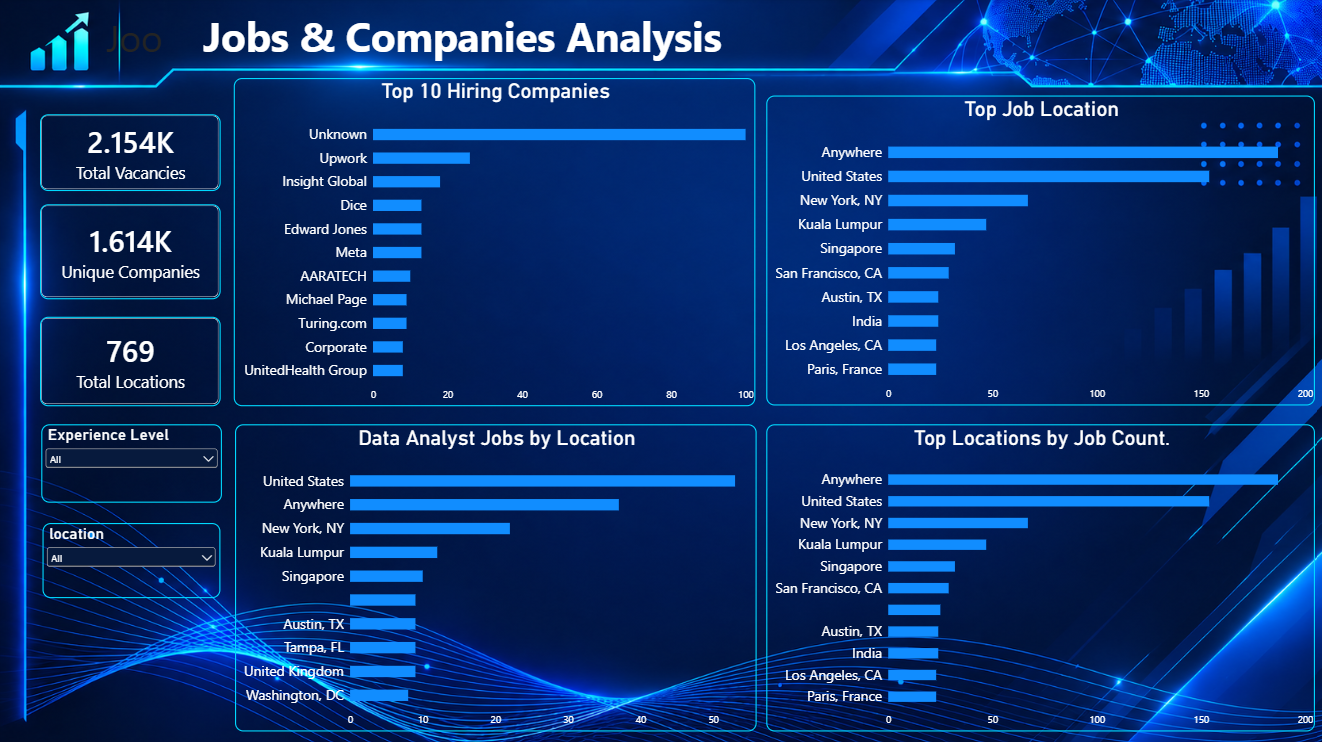

This screenshot's page, from the dashboard's own definition file:
{"tool":"powerbi","page":{"name":"Jobs & Companies","canvas":[1920,1080],"ordinal":2},"visuals":[{"type":"cardVisual","fields":{"Data":["CountNonNull(vacancies_cleaned.id)"]},"box":[57.6,168.8,261.4,111.1],"z":0},{"type":"cardVisual","fields":{"Data":["Count(vacancies_cleaned.company)"]},"box":[57.6,298.5,261.4,137.9],"z":1},{"type":"cardVisual","fields":{"Data":["Count(vacancies_cleaned.location)"]},"box":[57.6,461.1,261.4,129.7],"z":2},{"type":"slicer","fields":{"Values":["vacancies_cleaned.experience_level"]},"box":[59.7,617.5,261.4,113.2],"z":3},{"type":"textbox","box":[154.4,14.4,1187.7,86.4],"z":4},{"type":"clusteredBarChart","title":"Top 10 Hiring Companies","fields":{"Category":["vacancies_cleaned.company"],"Y":["CountNonNull(vacancies_cleaned.id)"]},"box":[337.6,115.3,755.4,475.5],"z":5},{"type":"clusteredBarChart","title":"Top Job Location","fields":{"Category":["vacancies_cleaned.location"],"Y":["CountNonNull(vacancies_cleaned.id)"]},"box":[1109.4,142,794.5,448.7],"z":6},{"type":"clusteredBarChart","title":"Data Analyst Jobs by Location","fields":{"Category":["vacancies_cleaned.location"],"Y":["CountNonNull(vacancies_cleaned.id)"]},"box":[339.6,617.5,755.4,444.6],"z":7},{"type":"clusteredBarChart","title":"Top Locations by Job Count.","fields":{"Category":["vacancies_cleaned.location"],"Y":["CountNonNull(vacancies_cleaned.id)"]},"box":[1109.4,617.5,794.5,444.6],"z":8},{"type":"slicer","fields":{"Values":["vacancies_cleaned.location"]},"box":[61.7,759.5,257.3,109.1],"z":9}]}

Visuals, with their boxes in screenshot pixels (x1, y1, x2, y2), scaled from the page's 1920x1080 canvas onto the 1322x742 screenshot:
cardVisual - CountNonNull(vacancies_cleaned.id): detection(40, 116, 220, 192)
cardVisual - Count(vacancies_cleaned.company): detection(40, 205, 220, 300)
cardVisual - Count(vacancies_cleaned.location): detection(40, 317, 220, 406)
slicer - vacancies_cleaned.experience_level: detection(41, 424, 221, 502)
textbox: detection(106, 10, 924, 69)
"Top 10 Hiring Companies" clusteredBarChart: detection(232, 79, 753, 406)
"Top Job Location" clusteredBarChart: detection(764, 98, 1311, 406)
"Data Analyst Jobs by Location" clusteredBarChart: detection(234, 424, 754, 730)
"Top Locations by Job Count." clusteredBarChart: detection(764, 424, 1311, 730)
slicer - vacancies_cleaned.location: detection(42, 522, 220, 597)
